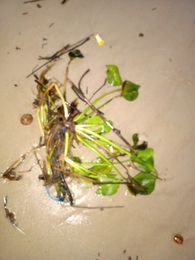water_hyacinth: (37, 34, 162, 208)
